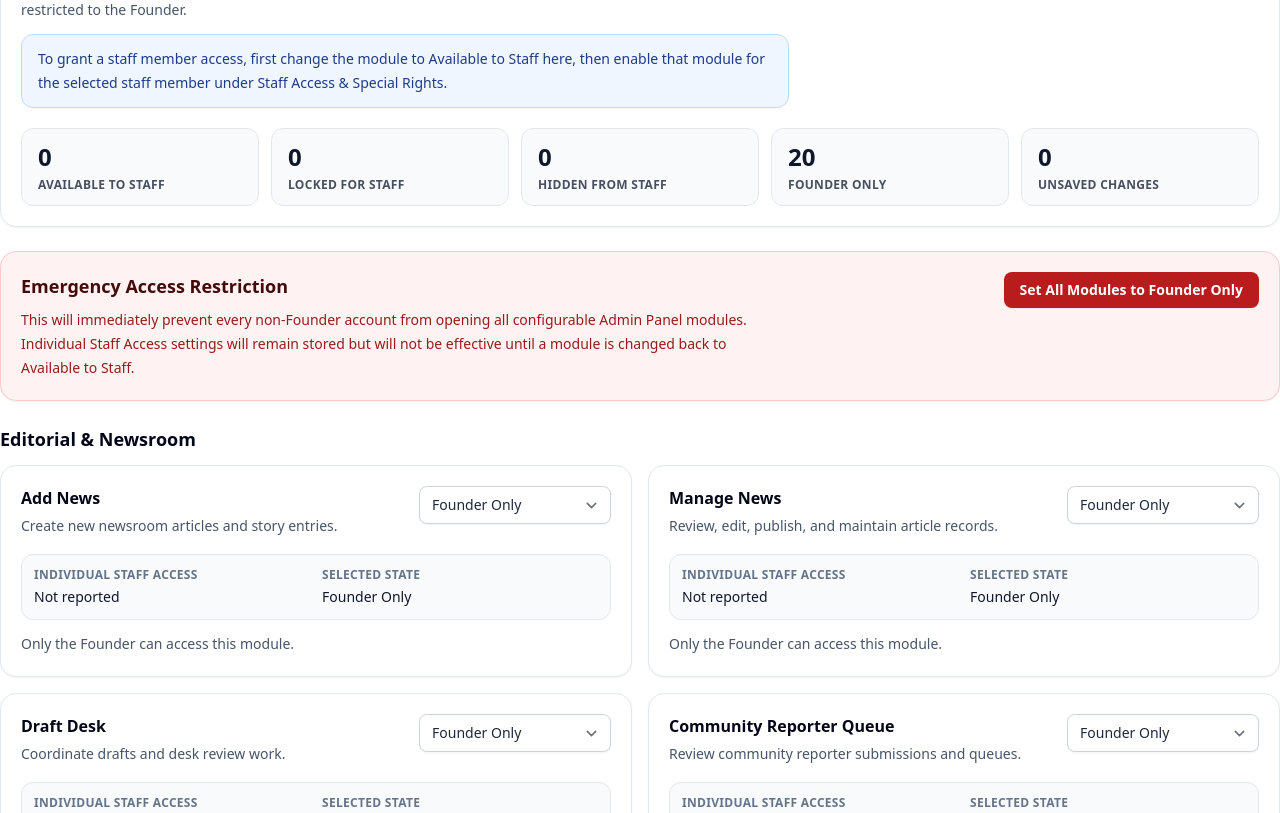
Test: FounderAccessControl › requires an audit reason before review and save
Select "Locked for Staff" in the dropdown named "add news global state" at (515, 505), box 419,486 -> 611,524
(page scrolled)
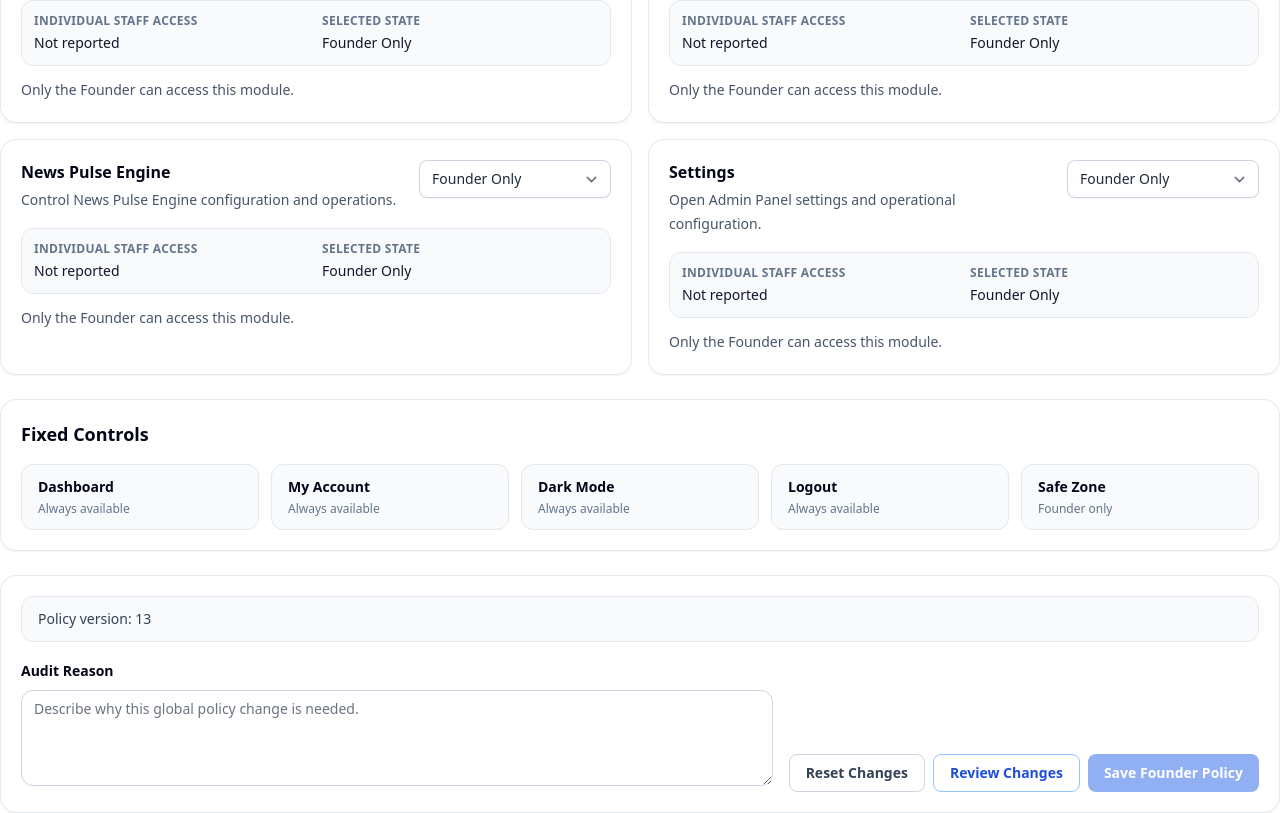
Expected: the button "Save Founder Policy" is disabled, 1088,754 -> 1259,792
Click the button "Review Changes" at (1006, 773), box 933,754 -> 1080,792
(page scrolled)
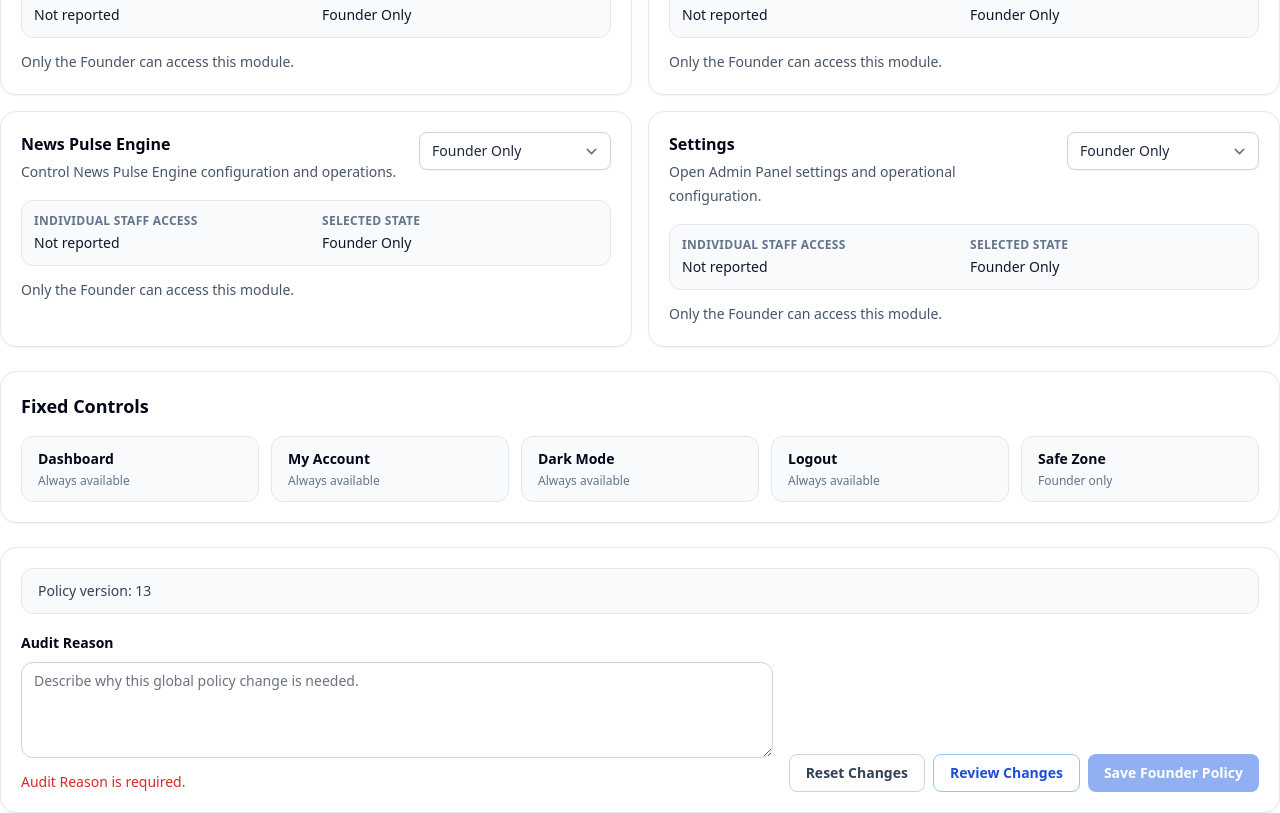
Expected: the text "Audit Reason is required." is shown, 21,772 -> 185,791
